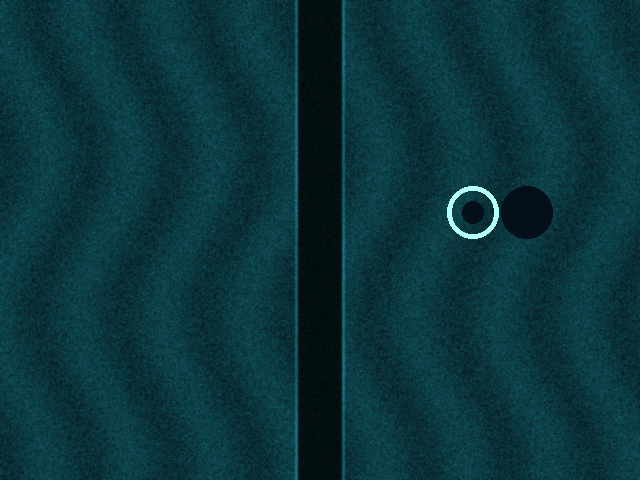Rubber Debris: (447, 186, 498, 238)
